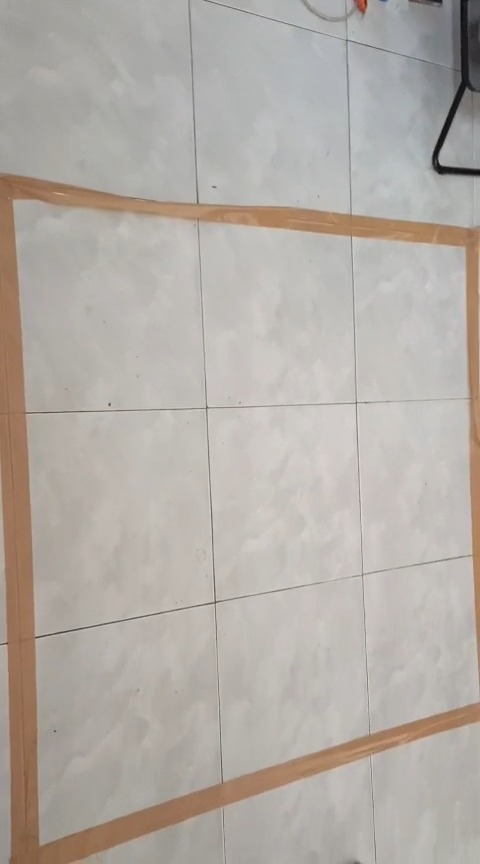floor marking: (0, 174, 479, 863)
